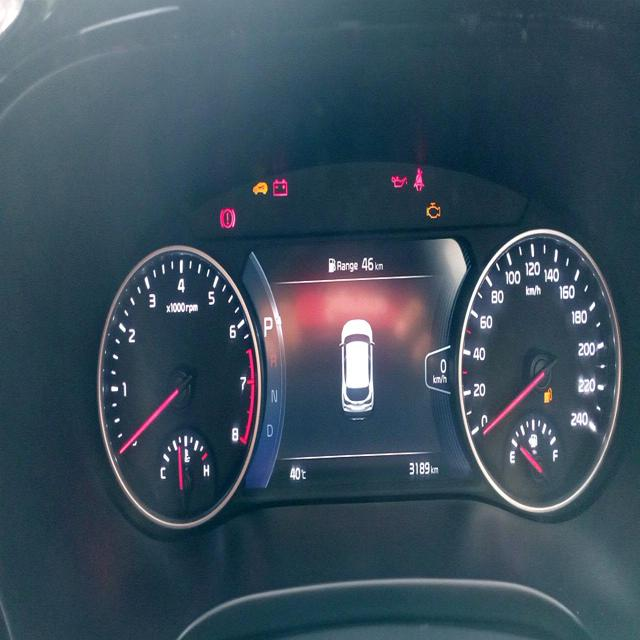odometer: (407, 456, 433, 479)
